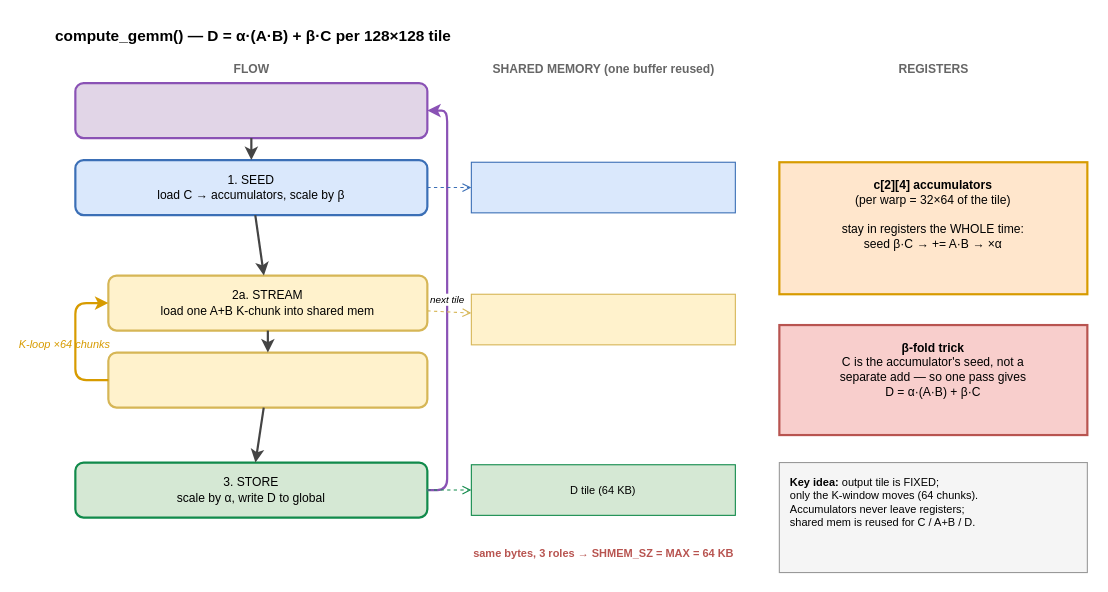
The diagram is 1108 pixels wide and 592 high, and some of its shapes have lost their labels. Here are the shapes that lost their labels. From the top down, the centre of each, then its label:
the point at 251,110: 0. PICK A TILE grid-stride over the 32×32 output tiles
the point at 602,187: C tile (64 KB)
the point at 602,319: A + B chunk (40 KB)
the point at 267,379: 2b. MULTIPLY 8 Tensor-Core MMAs per warp → accumulate
